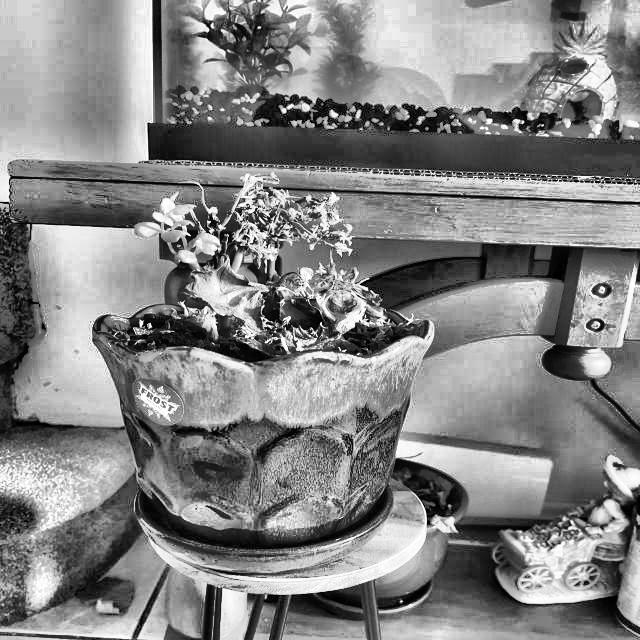plants: (80, 239, 490, 561), (179, 2, 320, 98)
